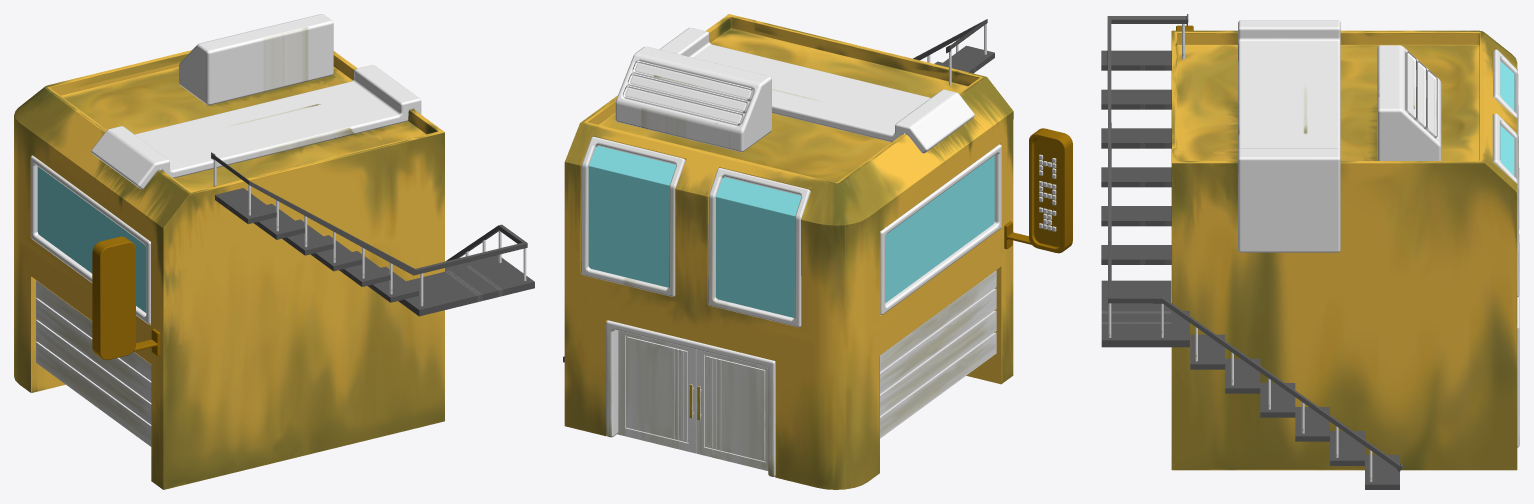
File: Building1.2 1.fbx
3 renders of one model, left to right at view 1: azimuth 30°, elevation 25°; view 2: azimuth 150°, elevation 25°; view 3: azimuth 270°, elevation 25°, orthographic. The views are drawn at different scales.
Visible parts, largest first — view 1: House, Plane.010, ACMesin, garage door, BoxText, LargeWindow, Stair.003, FrameLargeWindow, Stair, Stair.018, Stair.014, Stair.015 (+3 smaller); view 2: House, Small Window, Door, Plane.010, ACMesin, garage door, LargeWindow, FrameSmallWindow, BoxText, FrameDoor, FrameLargeWindow, Stair.018 (+2 smaller); view 3: House, Plane.010, ACMesin, Stair.003, Stair, FrameSmallWindow, Stair.016, Stair.017, Stair.018, Stair.014, Stair.015, Stair.002 (+8 smaller).
Boxes of the visible parts, bbox=[...] form: House: bbox=[14, 50, 444, 489]; Plane.010: bbox=[91, 65, 421, 189]; ACMesin: bbox=[179, 14, 333, 105]; garage door: bbox=[36, 280, 151, 446]; BoxText: bbox=[92, 236, 160, 360]; LargeWindow: bbox=[37, 166, 146, 312]; Stair.003: bbox=[398, 255, 534, 316]; FrameLargeWindow: bbox=[30, 155, 150, 324]; Stair: bbox=[211, 152, 527, 275]; Stair.018: bbox=[215, 188, 276, 223]; Stair.014: bbox=[339, 251, 390, 286]; Stair.015: bbox=[310, 235, 361, 271]; House: bbox=[564, 14, 1013, 489]; Small Window: bbox=[588, 146, 801, 317]; Door: bbox=[617, 330, 768, 470]; Plane.010: bbox=[659, 27, 974, 153]; ACMesin: bbox=[615, 46, 771, 152]; garage door: bbox=[880, 270, 996, 438]; LargeWindow: bbox=[885, 155, 994, 303]; FrameSmallWindow: bbox=[581, 136, 810, 327]; BoxText: bbox=[1004, 128, 1072, 253]; FrameDoor: bbox=[606, 320, 775, 476]; FrameLargeWindow: bbox=[880, 144, 1001, 314]; Stair.018: bbox=[940, 45, 994, 73]; House: bbox=[1171, 30, 1517, 470]; Plane.010: bbox=[1238, 20, 1340, 252]; ACMesin: bbox=[1377, 45, 1441, 160]; Stair.003: bbox=[1101, 280, 1189, 347]; Stair: bbox=[1107, 14, 1403, 471]; FrameSmallWindow: bbox=[1492, 49, 1519, 296]; Stair.016: bbox=[1101, 128, 1171, 148]; Stair.017: bbox=[1101, 89, 1171, 109]; Stair.018: bbox=[1101, 50, 1171, 70]; Stair.014: bbox=[1101, 206, 1171, 226]; Stair.015: bbox=[1101, 167, 1171, 187]; Stair.002: bbox=[1101, 245, 1171, 264].
Bounding box in the file's own units: 738 × 587 × 630.
